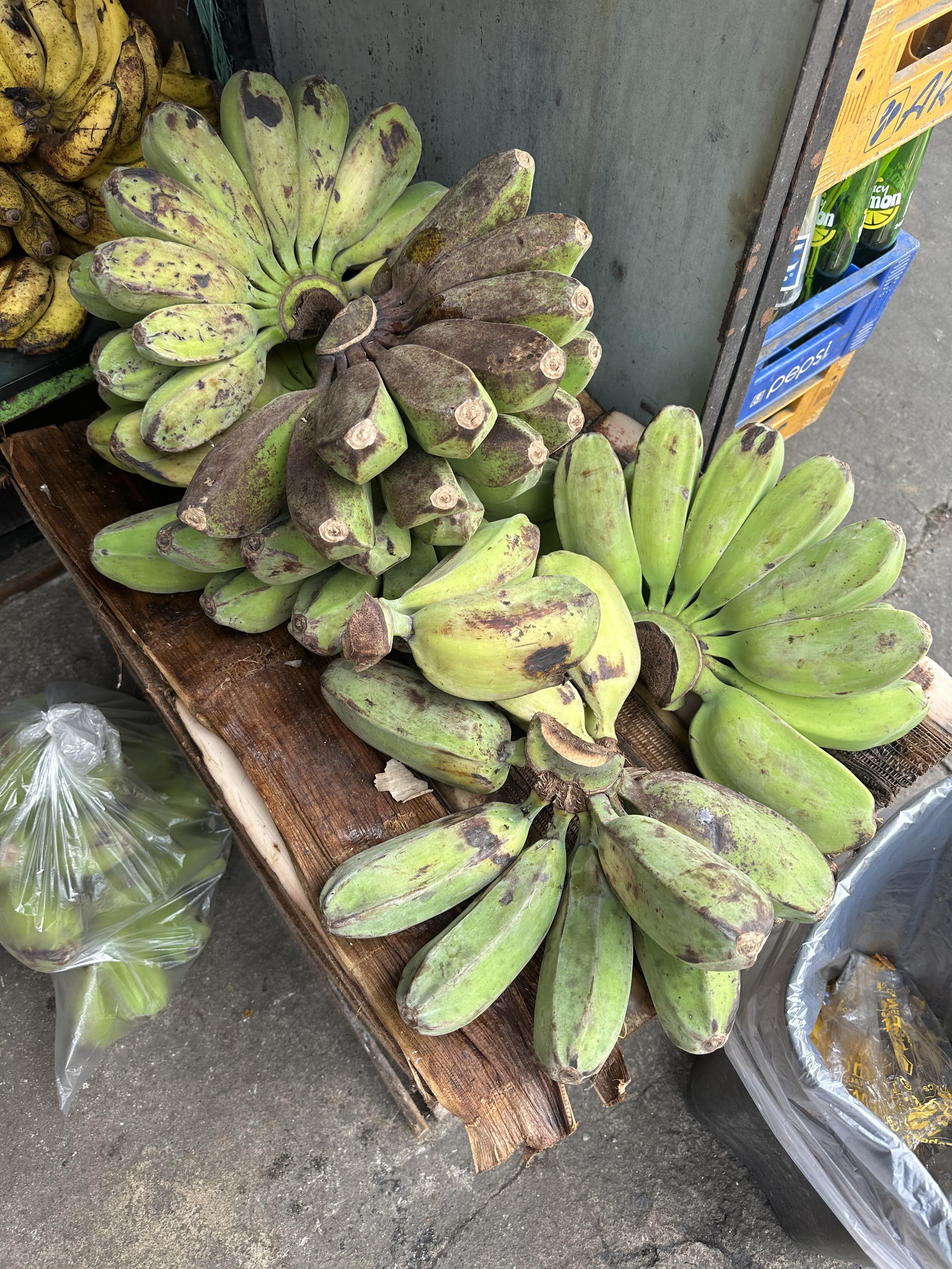underripe: (318, 657, 836, 1087), (176, 148, 600, 559), (552, 405, 930, 858), (68, 69, 452, 450), (87, 465, 544, 656), (402, 512, 601, 701), (486, 550, 641, 734)
